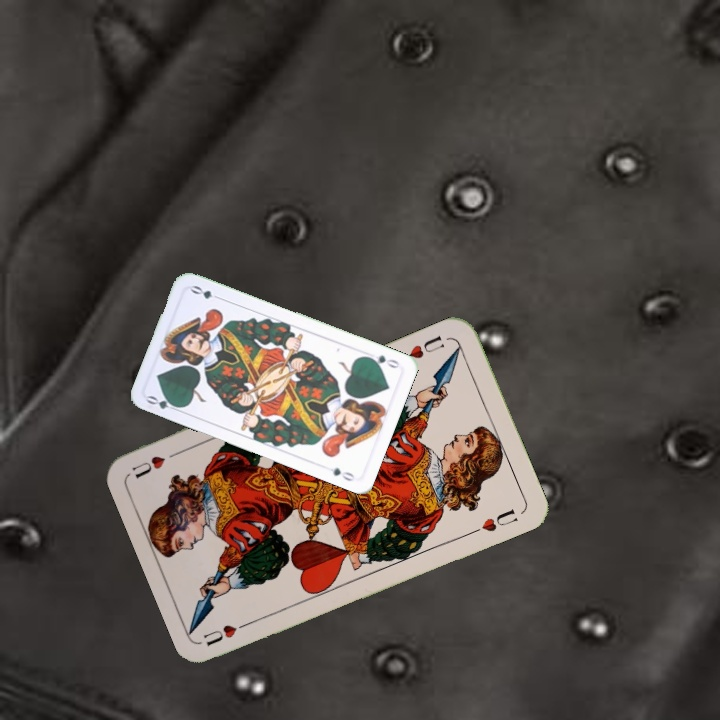GO: (143, 391, 184, 414), (362, 350, 402, 371)
HU: (199, 616, 256, 649), (405, 331, 447, 362)
